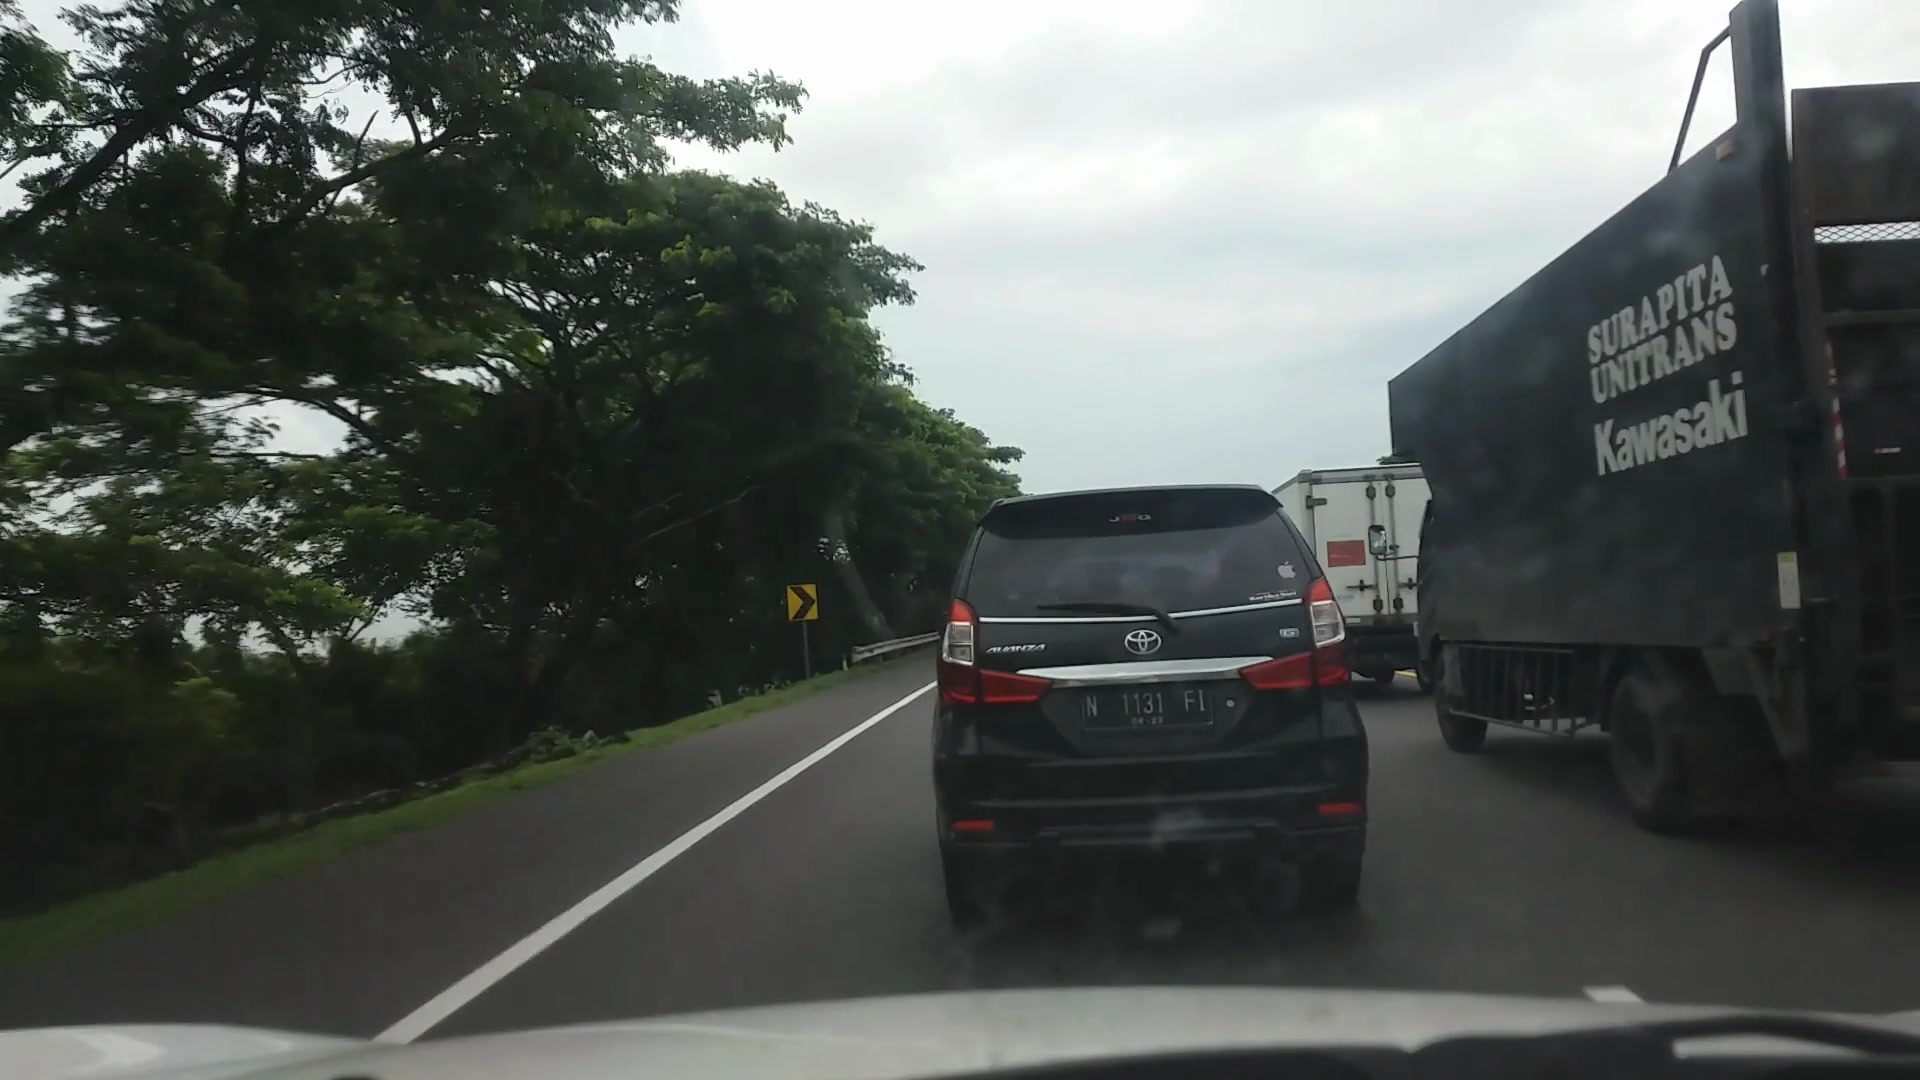plate_positive: (1081, 684, 1211, 727)
